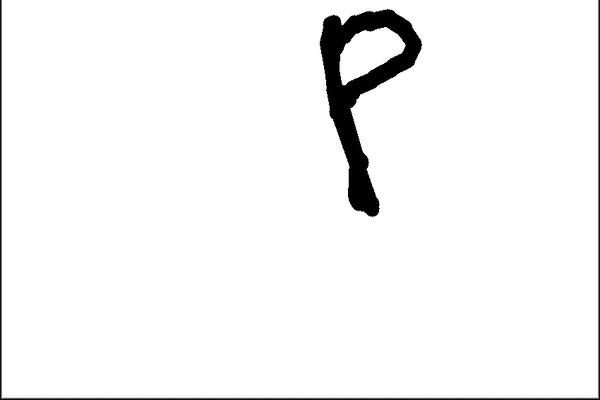P: (309, 5, 436, 228)
